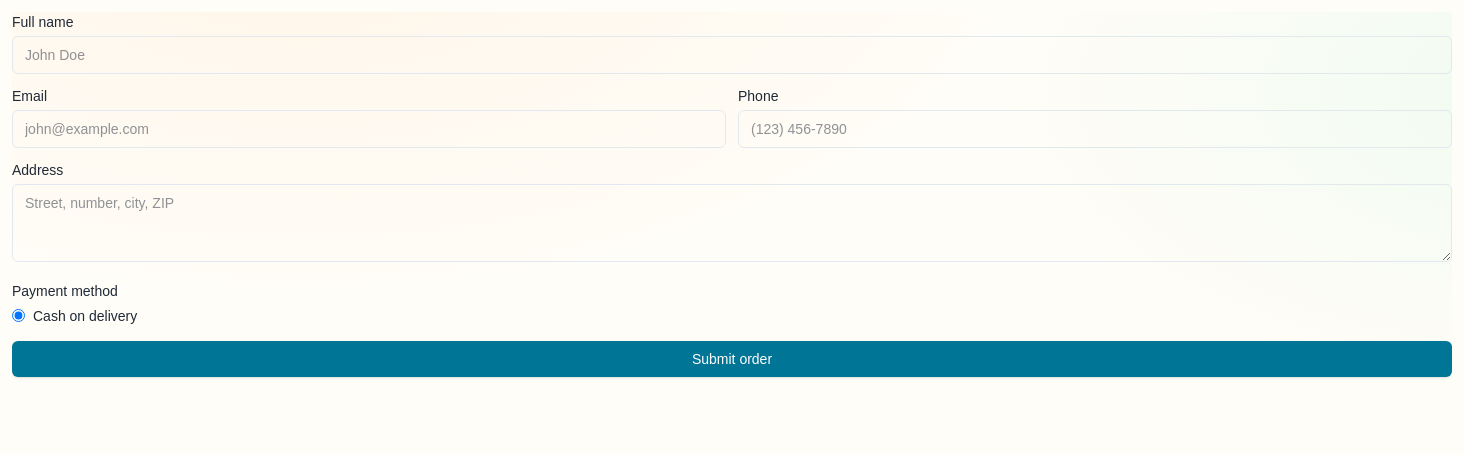
CheckoutForm › shows validation errors when fields are empty
Click the button "Submit order" at [732, 359], box [12,341,1452,377]
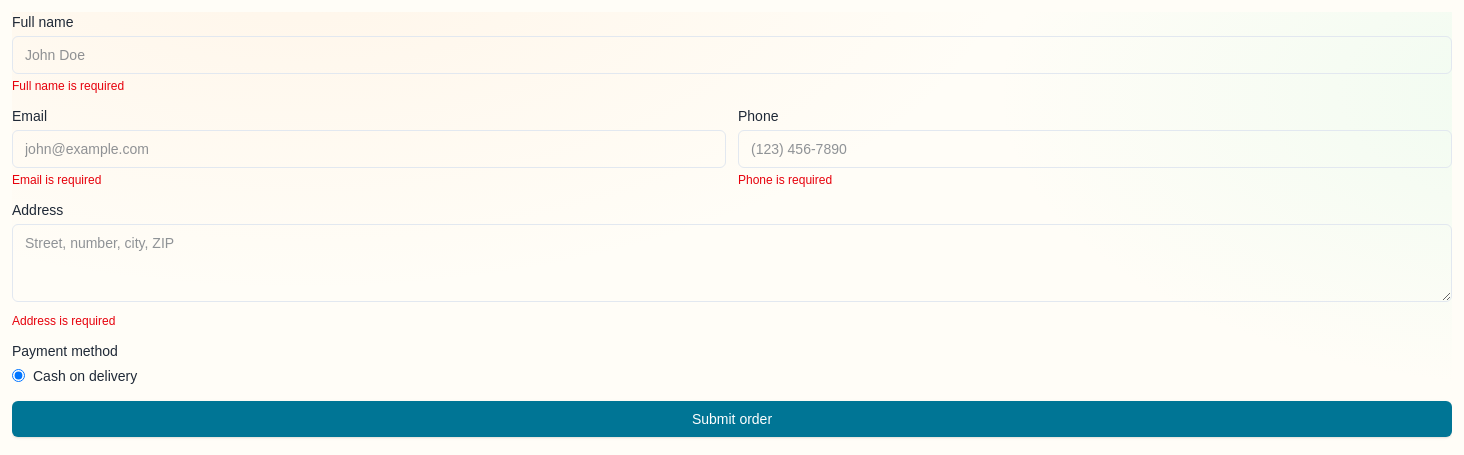
Expected: the text "Full name is required" is shown 4 times, [12,79,124,93]; [12,173,101,187]; [738,173,832,187]; [12,314,115,328]
